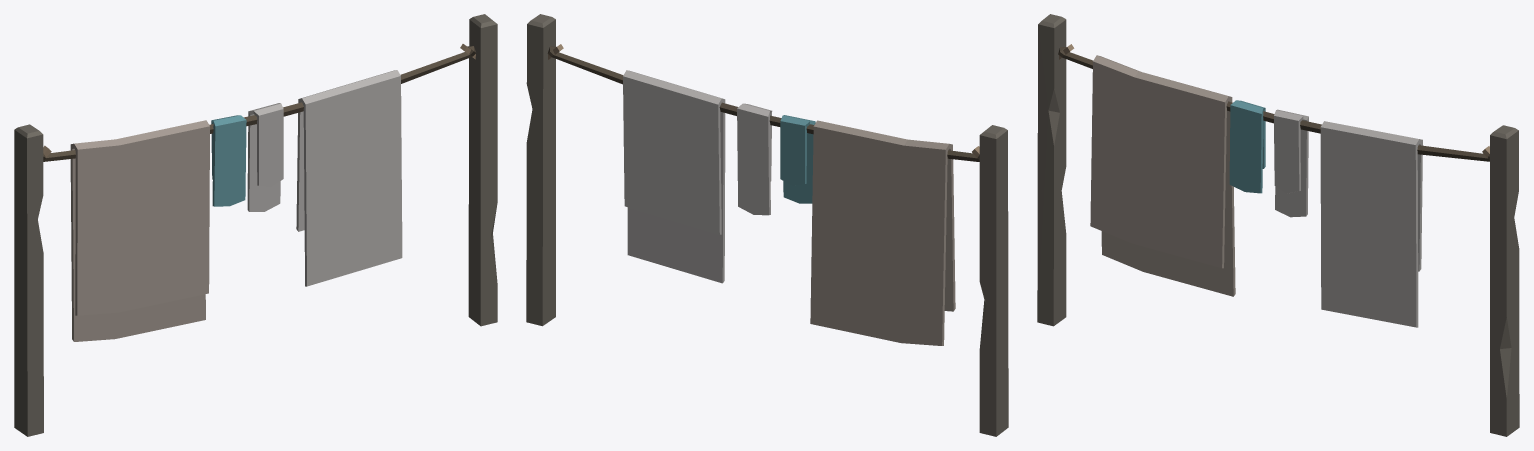
File: SM_Prop_Washingline_Small_01.fbx
3 renders of one model, left to right at view 1: azimuth 30°, elevation 25°; view 2: azimuth 150°, elevation 25°; view 3: azimuth 330°, elevation 25°, orthographic.
Visible parts, largest first — view 1: SM_Prop_Washingline_Small_01, SM_Prop_Washingline_Small_Poles_01; view 2: SM_Prop_Washingline_Small_01, SM_Prop_Washingline_Small_Poles_01; view 3: SM_Prop_Washingline_Small_01, SM_Prop_Washingline_Small_Poles_01.
Part boxes in pixels (x1,y1,x2,y2): SM_Prop_Washingline_Small_01: [43, 44, 475, 341]; SM_Prop_Washingline_Small_Poles_01: [14, 14, 497, 436]; SM_Prop_Washingline_Small_01: [547, 44, 979, 345]; SM_Prop_Washingline_Small_Poles_01: [526, 14, 1008, 436]; SM_Prop_Washingline_Small_01: [1058, 44, 1489, 327]; SM_Prop_Washingline_Small_Poles_01: [1037, 14, 1519, 436].
Bounding box in the file's own units: 418 × 255 × 19.64.
